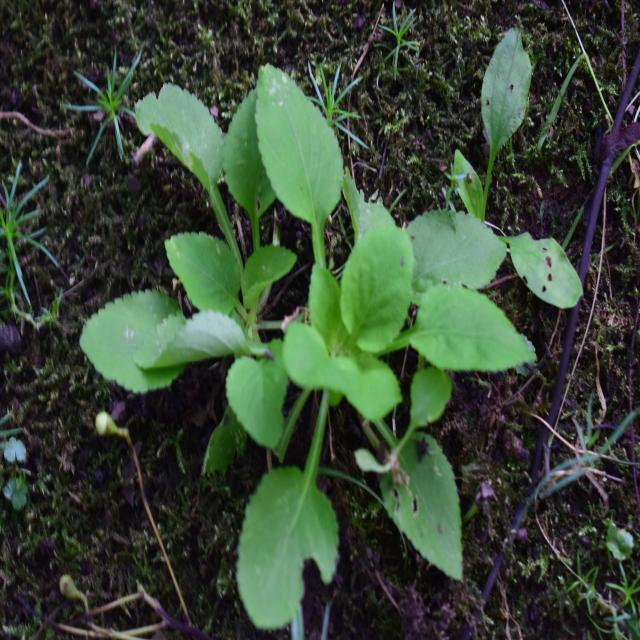Viola: (153, 102, 490, 567)
